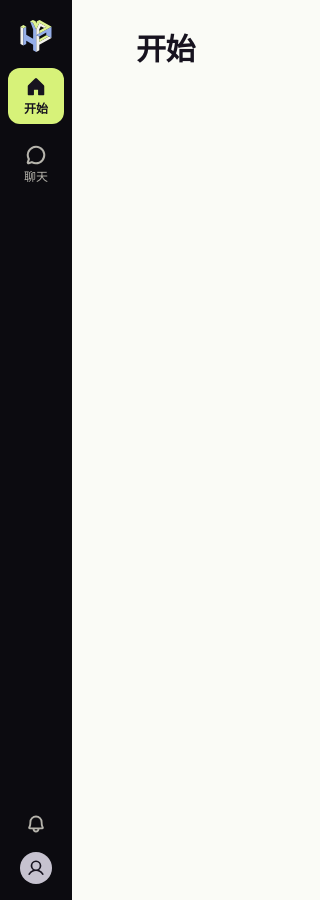
Test: account menu › omits Agent 设置 when the composition has no port for either of its sections
What coordinates should you click on to do the following:
click the button named "我的账号与 Agent 设置菜单"
I would click on:
 (36, 868)
Its box is [16,848,56,888].
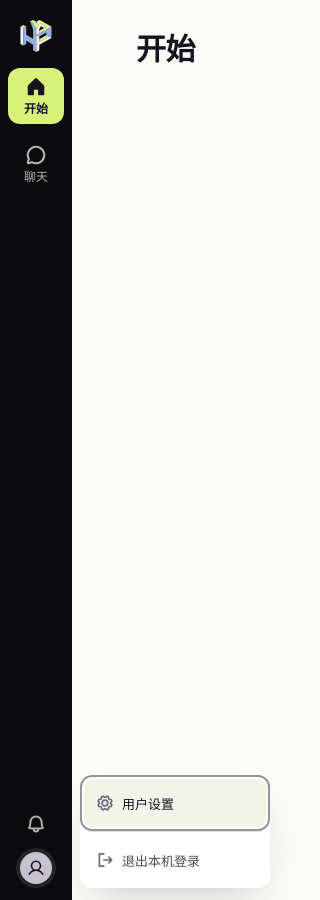
expect the menu items read "用户设置", "退出本机登录", in this order: met, box [84,779,266,827]; [84,836,266,884]
